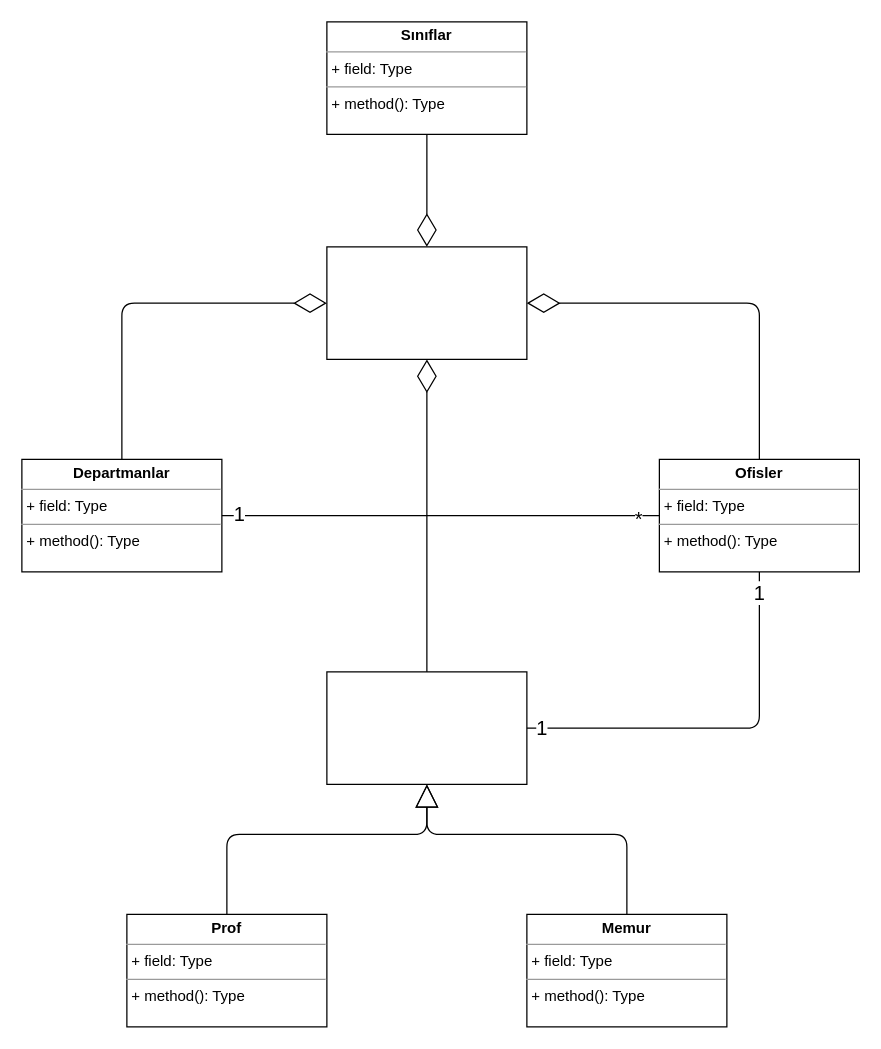
Some shapes in this 881 by 1049 pixel diagram are drawn without their labels. The box of each missing label's shape, as (x1, y1, x2, y2) in pixels:
Çalışanlar + field: Type + method(): Type: (326, 671, 527, 784)
Üniversite + field: Type + method(): Type: (326, 246, 527, 359)
